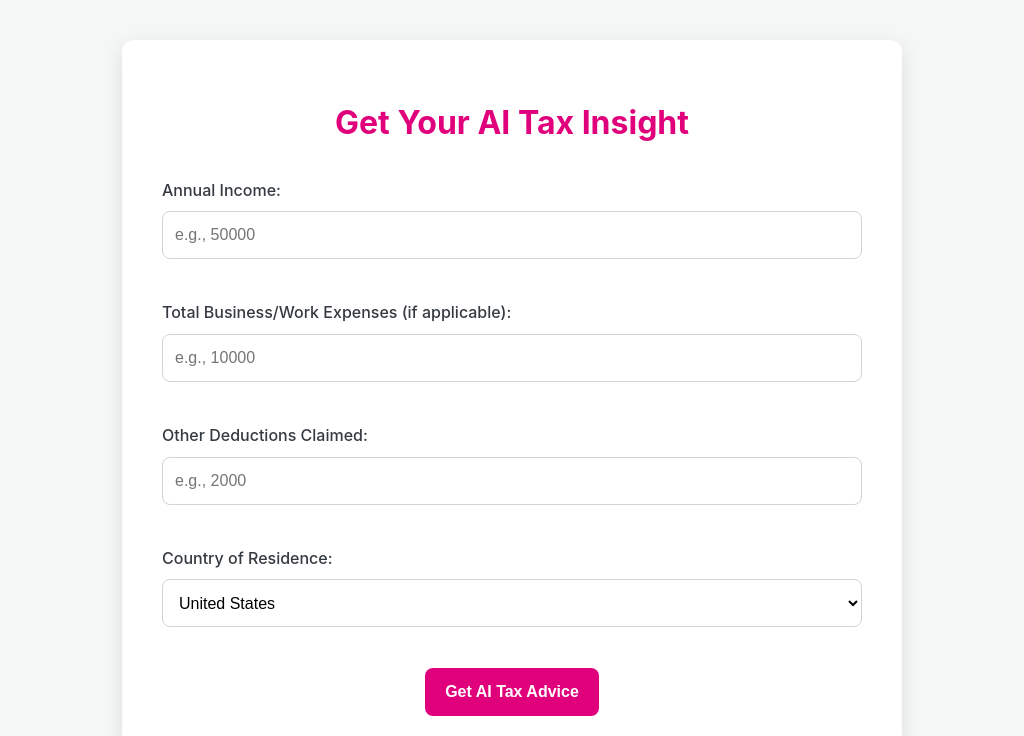
Test: TaxForm Component › shows error if deductions is negative
Type "50000" into the number field labelled "Annual Income:" at [512, 235], box x1=162 y1=211 x2=862 y2=259
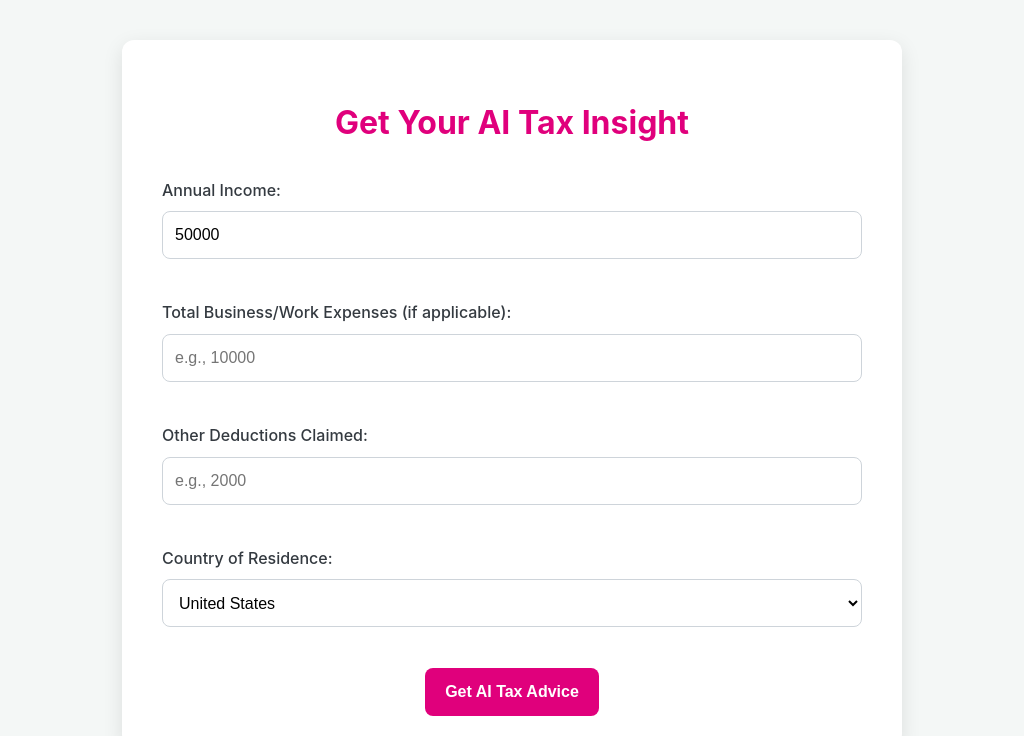
Type "5000" into the number field labelled "Total Business/Work Expenses (if applicable):" at [512, 358], box x1=162 y1=334 x2=862 y2=382
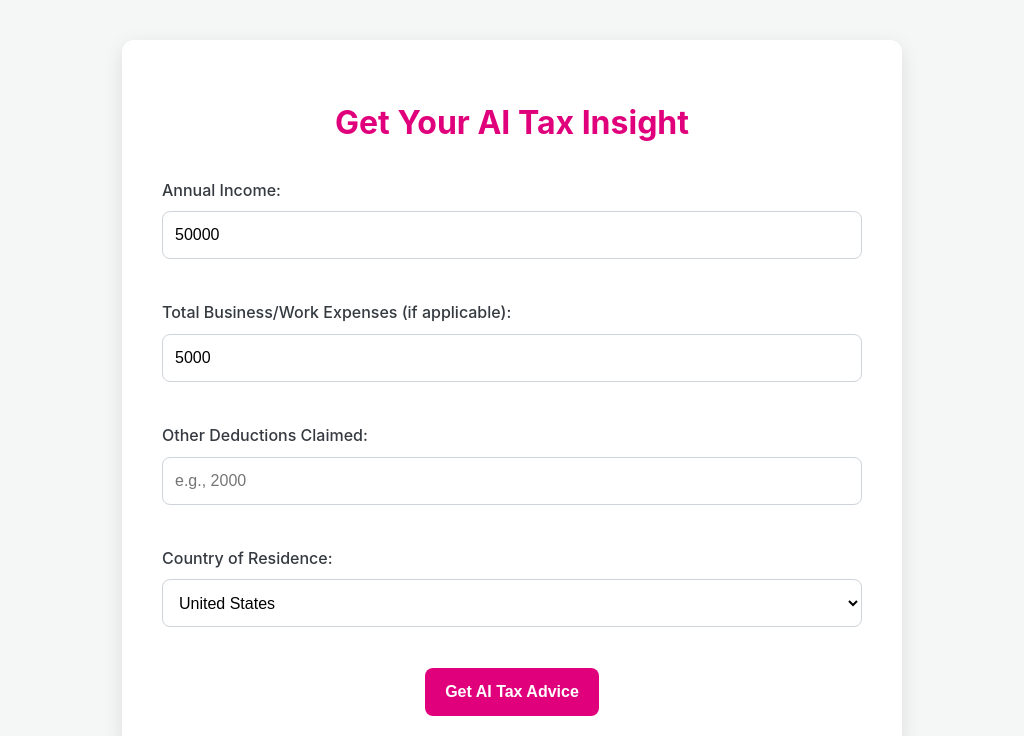
Select "United States" in the dropdown labelled "Country of Residence:" at [512, 603], box x1=162 y1=579 x2=862 y2=627
Type "-200" into the number field labelled "Other Deductions Claimed:" at [512, 480], box x1=162 y1=456 x2=862 y2=504
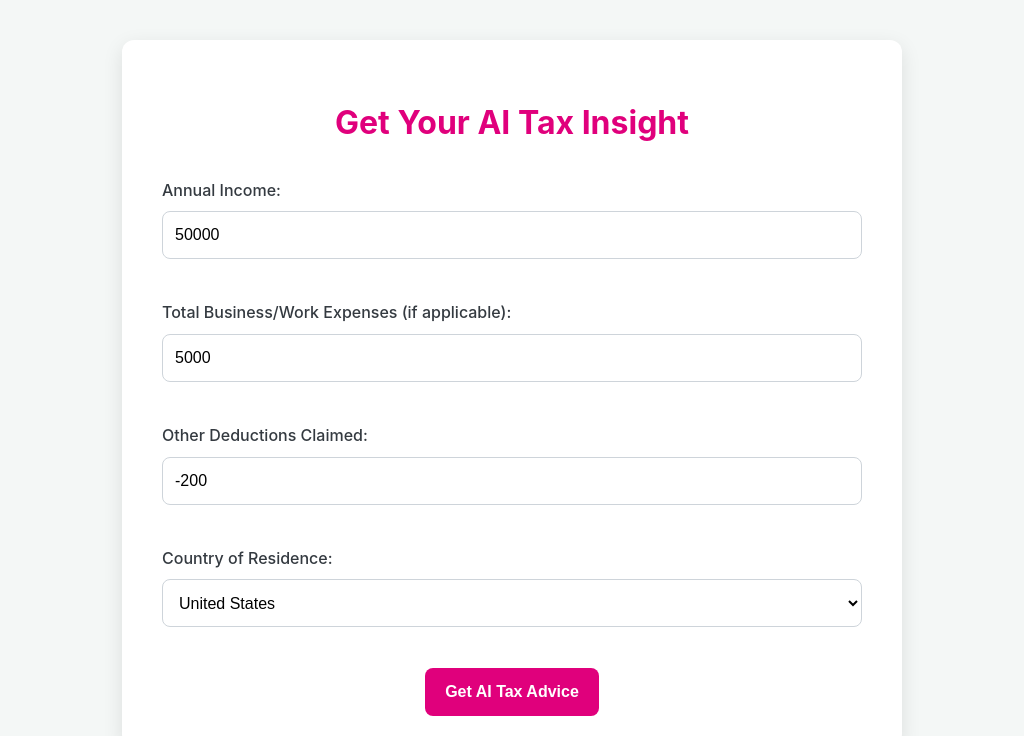
Click the button "Get AI Tax Advice" at [512, 692], box x1=425 y1=668 x2=599 y2=716
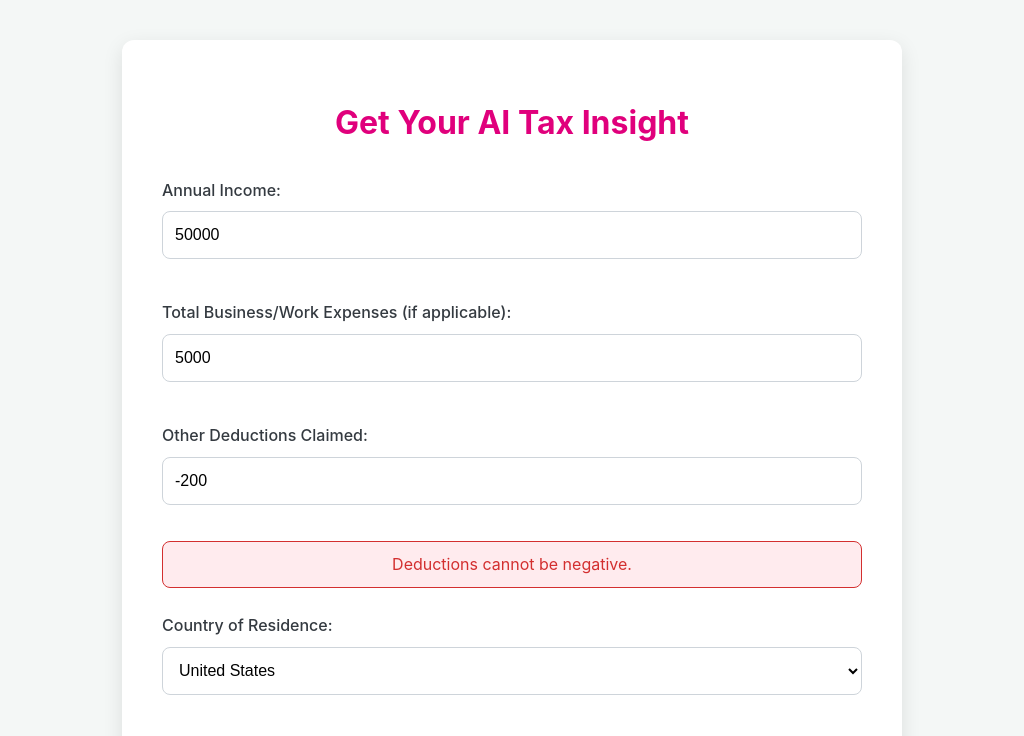
expect the text "Deductions cannot be negative." is shown: met, box x1=162 y1=540 x2=862 y2=588
